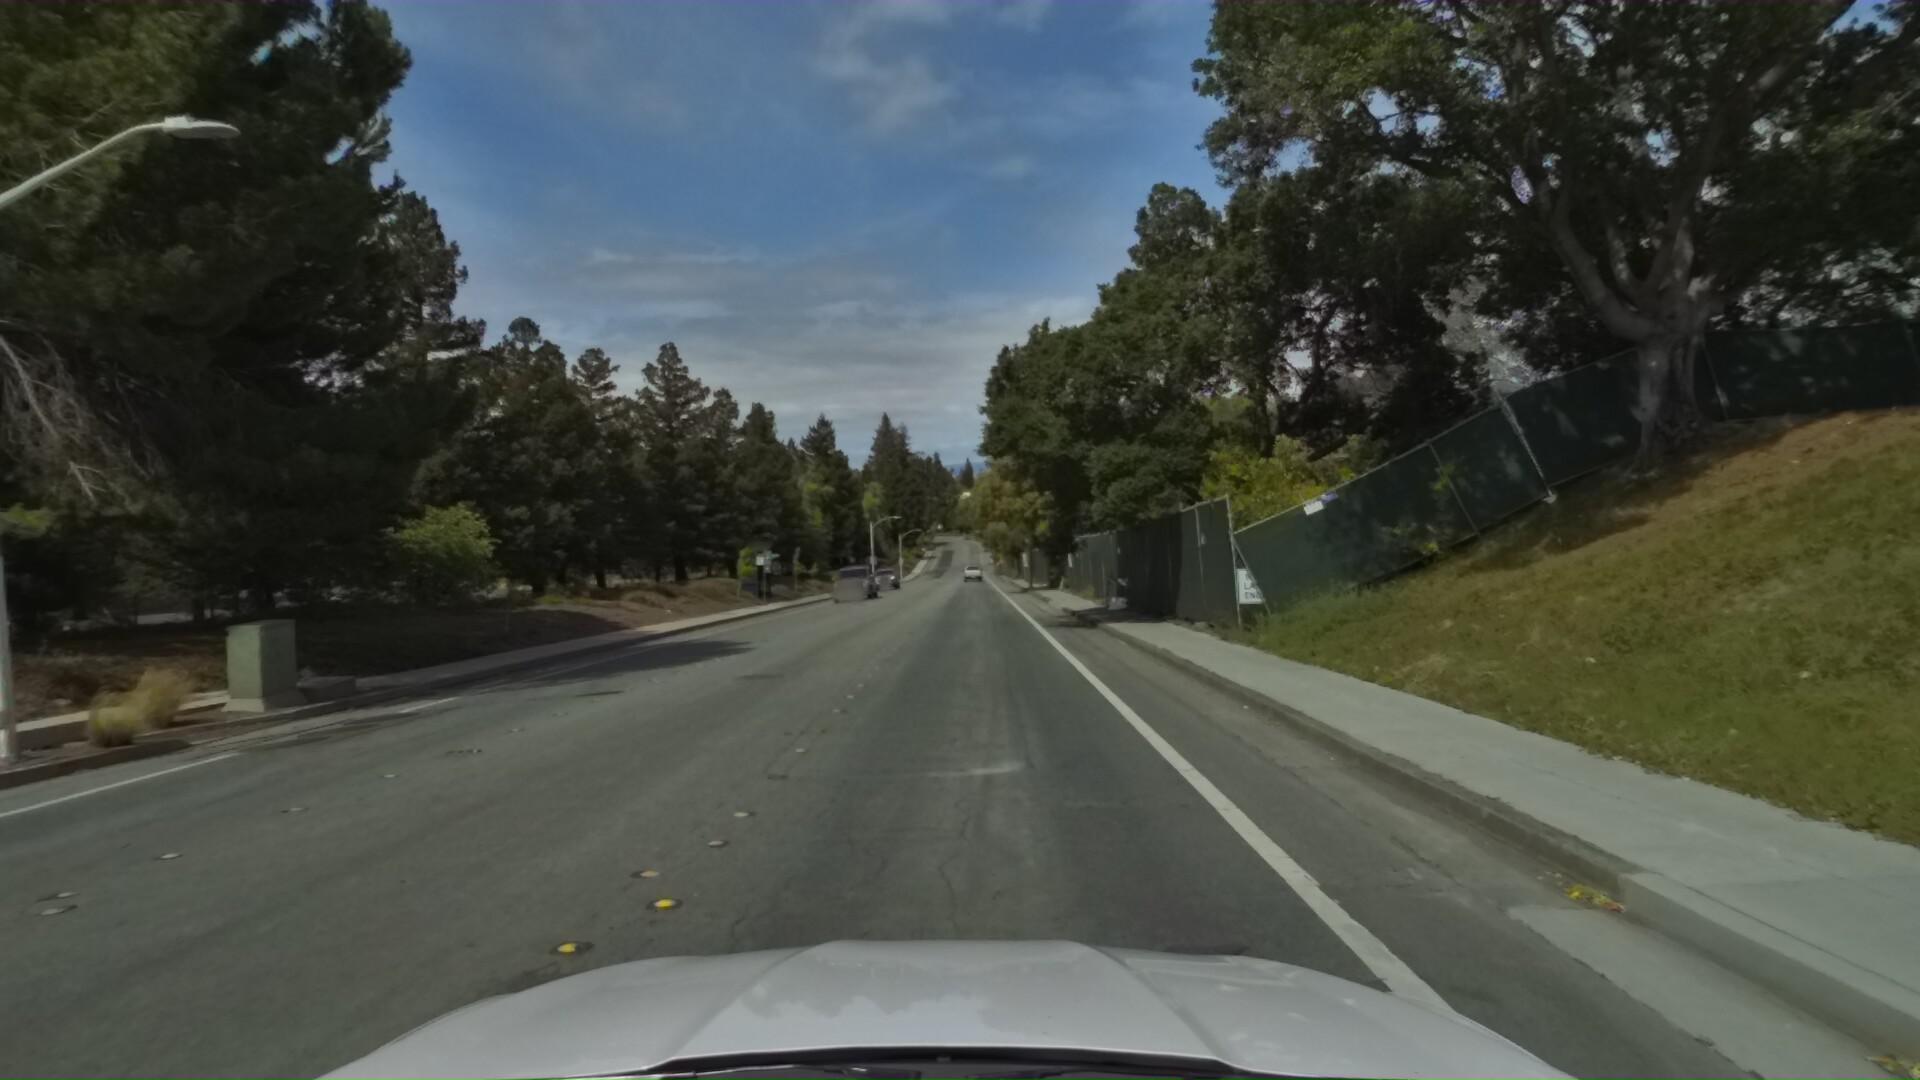car: (822, 563, 876, 612), (862, 564, 901, 595)
